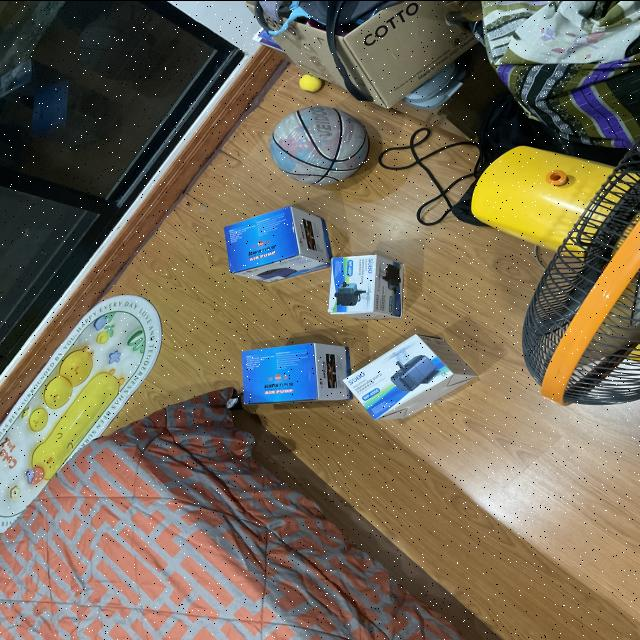SOBO_WP_4200: (338, 328, 472, 423), (309, 239, 404, 316)
YAMANO_LPP_20: (232, 324, 356, 414), (215, 201, 335, 289)
